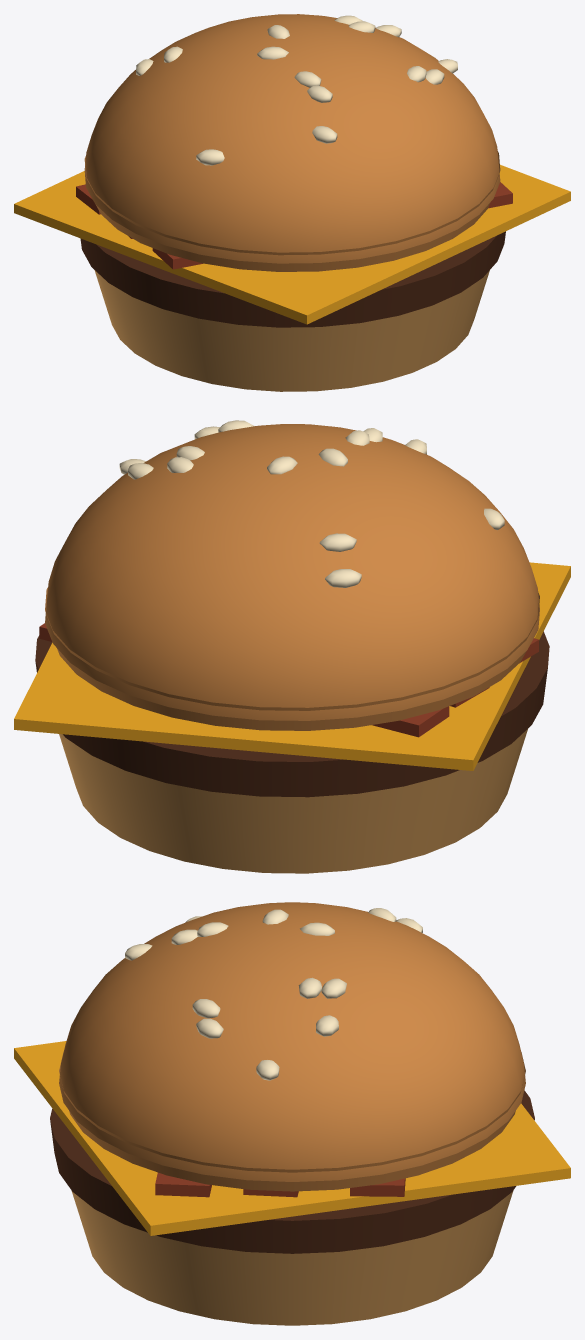
The model's file is burger-kids.glb.
3 views of the same model, one above another, from view 1: azimuth 30°, elevation 25°; view 2: azimuth 150°, elevation 25°; view 3: azimuth 270°, elevation 25° (orthographic). The views are drawn at different scales.
Bounding box in the file's own units: 0.1366 × 0.085 × 0.1366.
